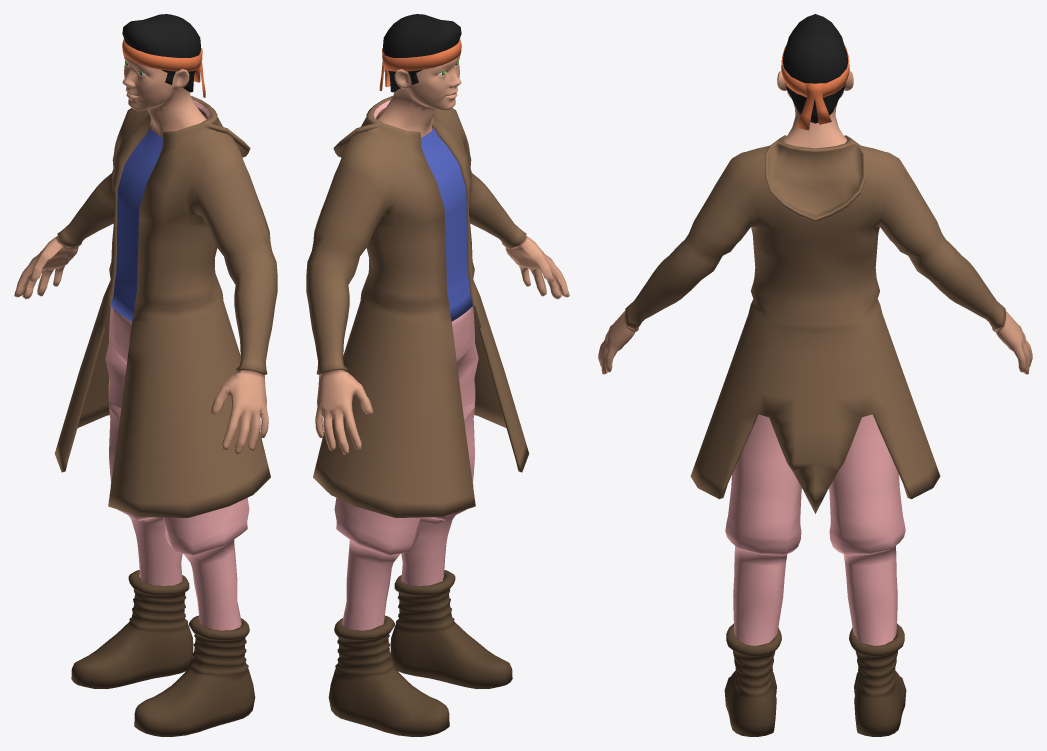
The model's file is Archer_3.fbx.
3 views of the same model, side by side, from view 1: azimuth 30°, elevation 25°; view 2: azimuth 150°, elevation 25°; view 3: azimuth 270°, elevation 25° (orthographic).
Parts seen in each view (by area): view 1: Archer_3, hair_2, Bandana; view 2: Archer_3, hair_2, Bandana; view 3: Archer_3, hair_2, Bandana.
Part boxes in pixels (box(x1,y1,x2,y2)): Archer_3: box(14, 54, 277, 736); hair_2: box(122, 14, 201, 92); Bandana: box(122, 39, 205, 97); Archer_3: box(306, 54, 569, 736); hair_2: box(382, 14, 461, 92); Bandana: box(379, 39, 461, 90); Archer_3: box(598, 71, 1032, 736); hair_2: box(782, 14, 848, 123); Bandana: box(781, 44, 849, 130).
Size of the model in its own units: 45.54 by 185 by 106.
